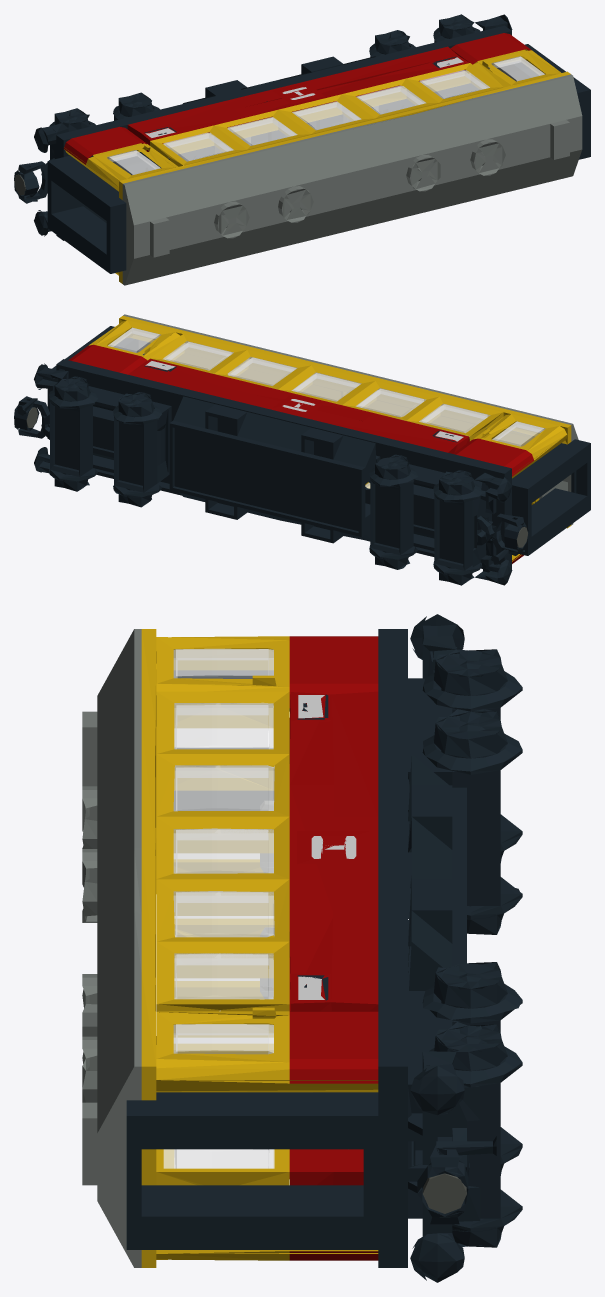
The model's file is coach-2.glb.
The picture shows the model from 3 angles, top to bottom: view 1: azimuth 30°, elevation 25°; view 2: azimuth 150°, elevation 25°; view 3: azimuth 270°, elevation 25°; orthographic projection. The views are drawn at different scales.
Bounding box in the file's own units: 251 × 51.8 × 95.2.
